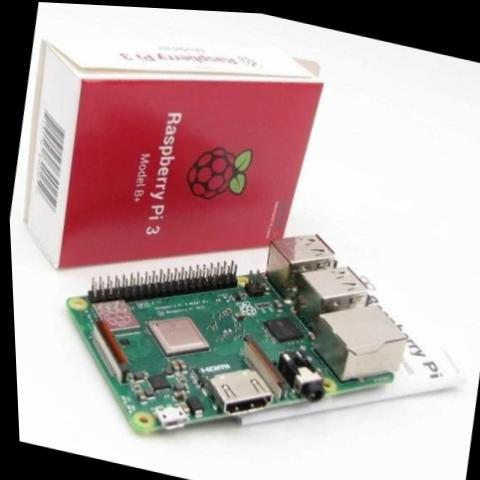Raspberry-Pi-3-Model-B-: (32, 170, 429, 480)
